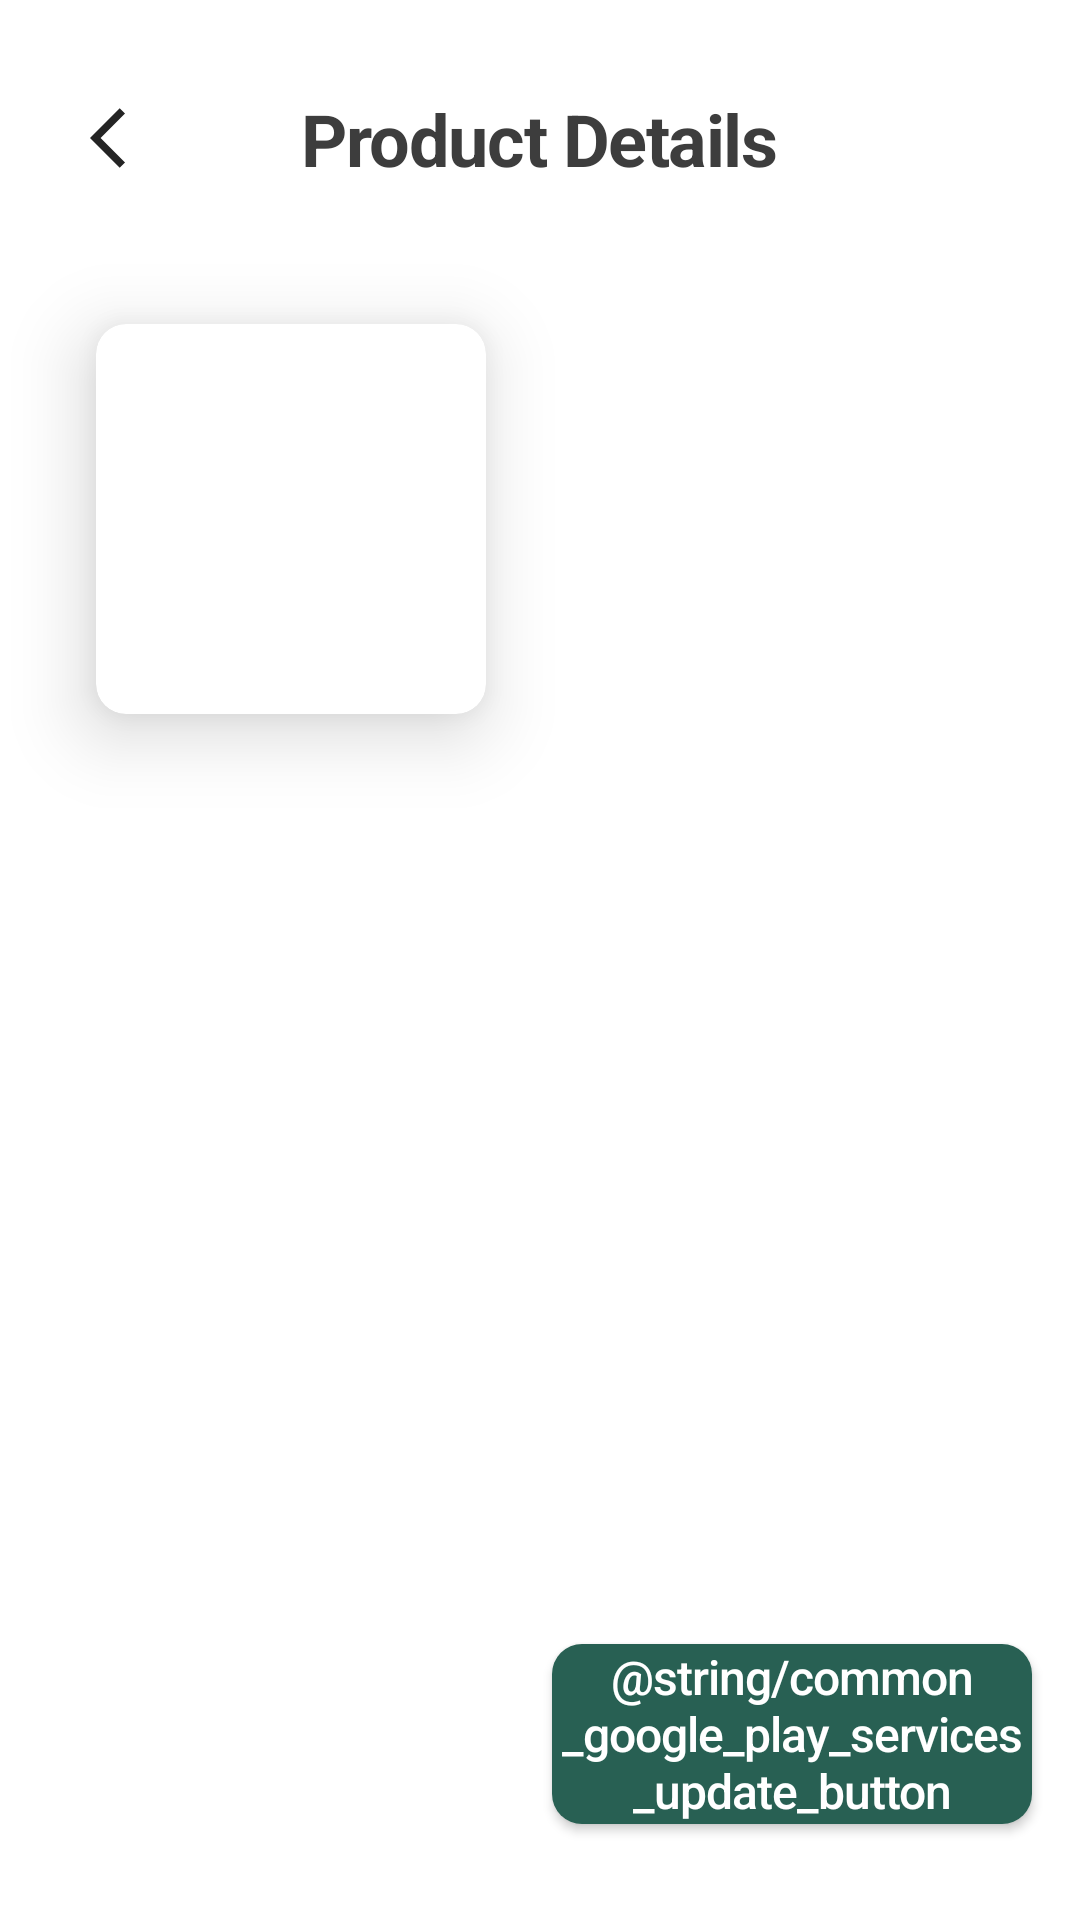

Screen size 1080w x 1920h. Icon name, then its center in pixels as (x=x, y=y):
back arrow: (x=107, y=138)
